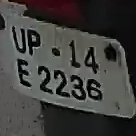1: (65, 37, 82, 72)
2: (53, 65, 70, 99), (36, 64, 53, 94)
3: (70, 70, 87, 103)
4: (82, 44, 100, 75)
6: (87, 74, 106, 104)
E: (15, 56, 34, 89)
P: (26, 27, 43, 59)
U: (10, 24, 28, 55)
